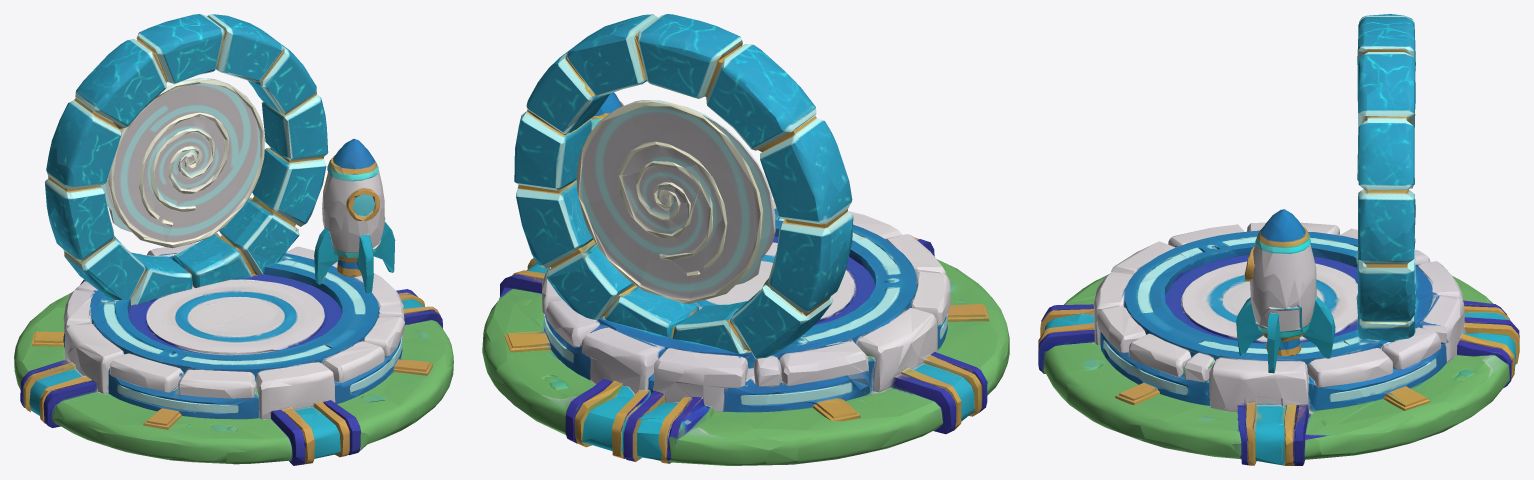
File: launch.glb
The picture shows the model from 3 angles, left to right: view 1: azimuth 30°, elevation 25°; view 2: azimuth 150°, elevation 25°; view 3: azimuth 270°, elevation 25°; orthographic projection. The views are drawn at different scales.
Parts seen in each view (by area): view 1: Mesh_0; view 2: Mesh_0; view 3: Mesh_0.
Part boxes in pixels (<box>): Mesh_0: <box>14,14,453,465</box>; Mesh_0: <box>482,14,1009,465</box>; Mesh_0: <box>1038,14,1519,465</box>.
Bounding box in the file's own units: 1.9 × 1.47 × 1.9.
Materials: 1 (1 with a texture image).
